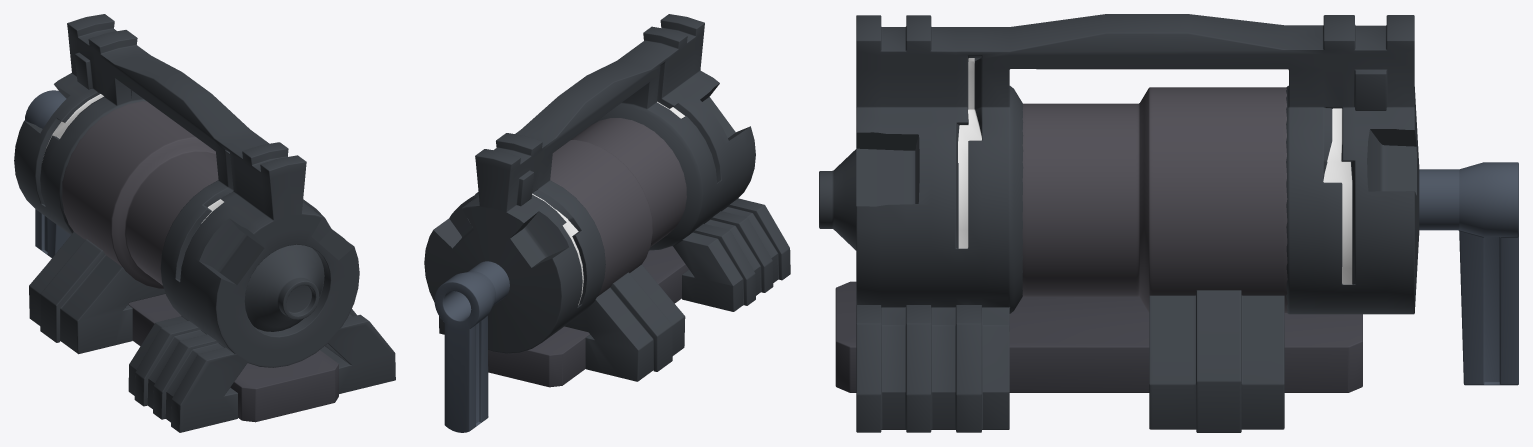
File: Tank_new.fbx
3 renders of one model, left to right at view 1: azimuth 30°, elevation 25°; view 2: azimuth 150°, elevation 25°; view 3: azimuth 270°, elevation 25°, orthographic. The views are drawn at different scales.
Visible parts, largest first — view 1: Tank.001; view 2: Tank.001; view 3: Tank.001.
Part boxes in pixels (left/top/right/bottom): Tank.001: left=14, top=14, right=395, bottom=432; Tank.001: left=424, top=14, right=790, bottom=432; Tank.001: left=819, top=14, right=1518, bottom=432.
Size of the model in its own units: 445 by 510 by 900.
